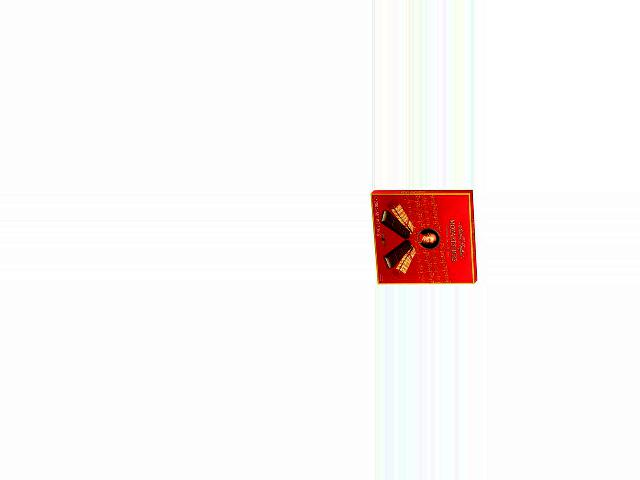chocolate: (368, 189, 475, 286)
